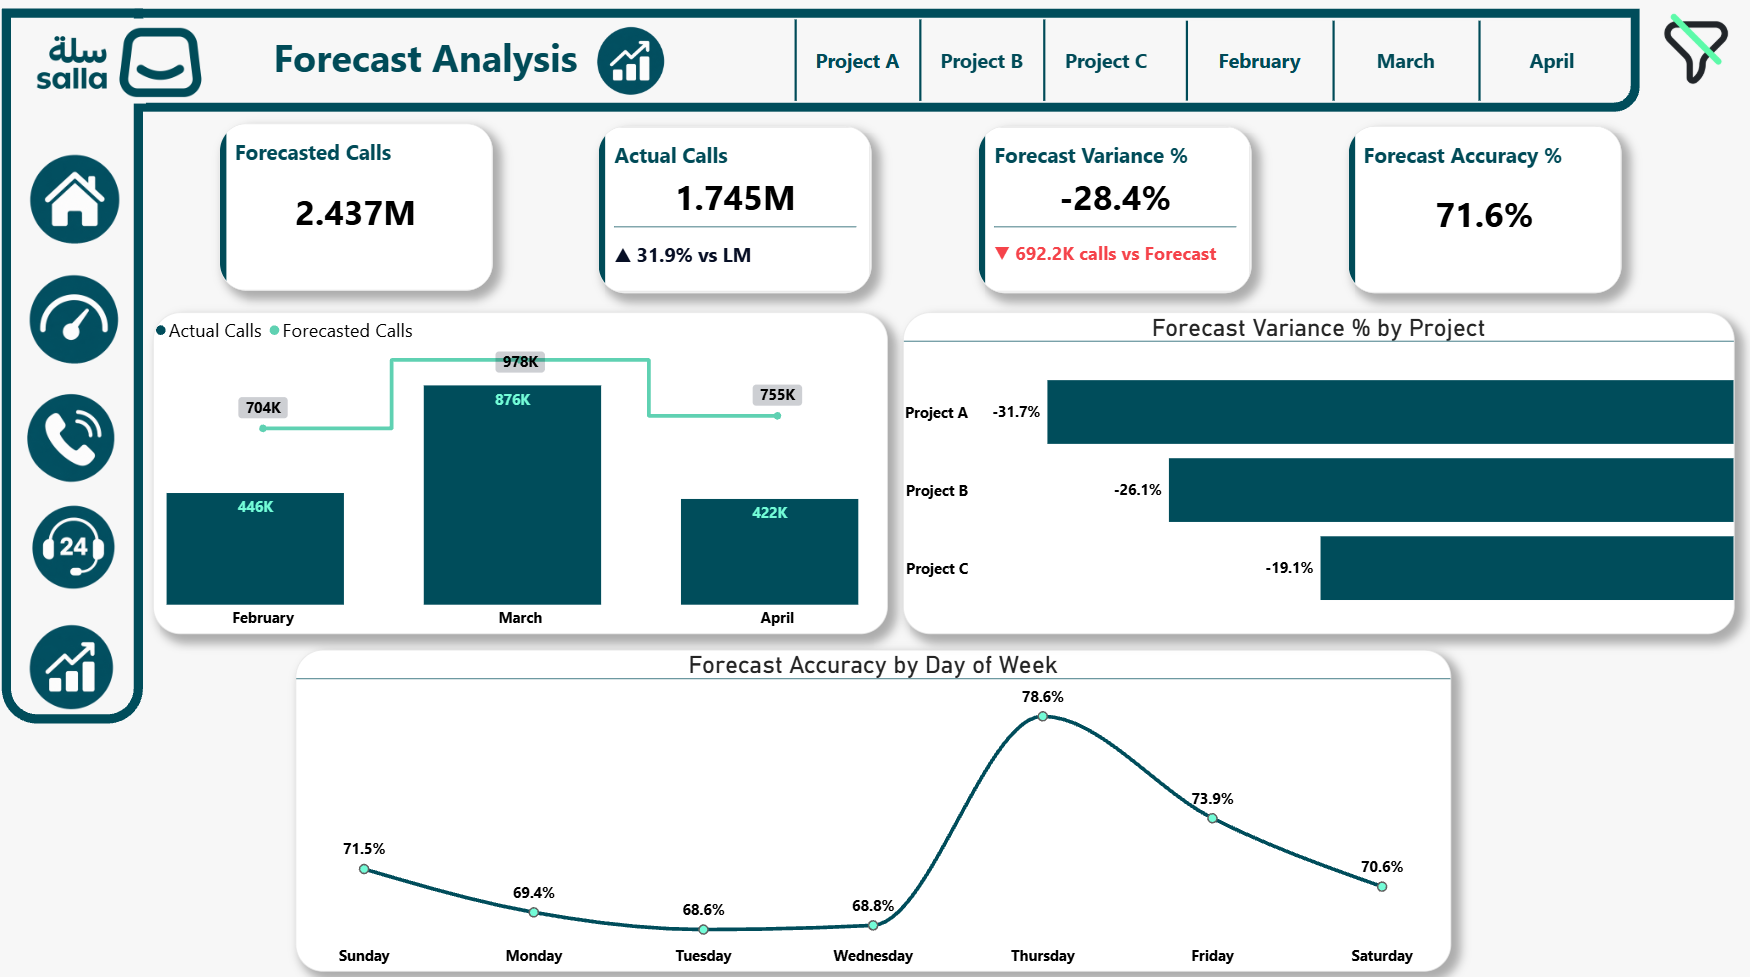

What the dashboard file says about the page in this screenshot:
{"tool":"powerbi","page":{"name":"Forecast Analysis","canvas":[1920,1080],"ordinal":4},"visuals":[{"type":"shape","box":[154.4,14,1642.4,112.7],"z":0},{"type":"shape","box":[10,14,154,780],"z":1000},{"type":"shape","box":[150.6,24,17.2,93.1],"z":2000},{"type":"slicer","fields":{"Values":["DimDate.Month Name"]},"box":[1280,25,516.7,91.7],"z":3000},{"type":"slicer","fields":{"Values":["Sallah Project.Project"]},"box":[853.3,23.3,445,93.3],"z":4000},{"type":"cardVisual","fields":{"Data":["_Measures.Total Forecasted Calls"]},"box":[246.9,138.5,298,182],"z":5000},{"type":"image","box":[10.8,10.8,254.3,122.8],"z":6000},{"type":"image","box":[1816.9,0,83.2,115.8],"z":7000},{"type":"cardVisual","fields":{"Data":["_Measures.Total Offered Calls"]},"box":[660.5,141.2,298,182],"z":8000},{"type":"cardVisual","fields":{"Data":["_Measures.Forecast Variance %"]},"box":[1074.9,141.2,298,182],"z":9000},{"type":"cardVisual","fields":{"Data":["_Measures.Forecast Accuracy %"]},"box":[1478.2,142.2,298,182],"z":10000},{"type":"lineClusteredColumnComboChart","fields":{"Category":["DimDate.Date.Variation.Date Hierarchy.Month"],"Y":["_Measures.Total Offered Calls"],"Y2":["_Measures.Total Forecasted Calls"]},"box":[174.5,344.8,801.6,351.2],"z":11000},{"type":"lineChart","title":"Forecast Accuracy by Day of Week","fields":{"Category":["DimDate.Day Name"],"Y":["_Measures.Forecast Accuracy %"]},"box":[329.7,713.3,1260.6,351.2],"z":12000},{"type":"clusteredBarChart","title":"Forecast Variance % by Project","fields":{"Category":["Sallah Project.Project"],"Y":["_Measures.Forecast Variance %"]},"box":[993.4,344.8,907.2,351.2],"z":13000},{"type":"image","box":[644.3,25.9,109.9,94.8],"z":19000},{"type":"image","box":[18,156,142,118],"z":19001},{"type":"image","box":[18,286,142,118],"z":19002},{"type":"image","box":[18,416,142,118],"z":19003},{"type":"image","box":[18,546,142,118],"z":19004},{"type":"image","box":[18,676,142,118],"z":19005}]}

Visuals, with their boxes in screenshot pixels (x1, y1, x2, y2), scaled from the page's 1920x1080 canvas onto the 1750x977 screenshot:
shape: {"left": 141, "top": 13, "right": 1638, "bottom": 115}
shape: {"left": 9, "top": 13, "right": 149, "bottom": 718}
shape: {"left": 137, "top": 22, "right": 153, "bottom": 106}
slicer - DimDate.Month Name: {"left": 1167, "top": 23, "right": 1638, "bottom": 106}
slicer - Sallah Project.Project: {"left": 778, "top": 21, "right": 1183, "bottom": 105}
cardVisual - _Measures.Total Forecasted Calls: {"left": 225, "top": 125, "right": 497, "bottom": 290}
image: {"left": 10, "top": 10, "right": 242, "bottom": 121}
image: {"left": 1656, "top": 0, "right": 1732, "bottom": 105}
cardVisual - _Measures.Total Offered Calls: {"left": 602, "top": 128, "right": 874, "bottom": 292}
cardVisual - _Measures.Forecast Variance %: {"left": 980, "top": 128, "right": 1251, "bottom": 292}
cardVisual - _Measures.Forecast Accuracy %: {"left": 1347, "top": 129, "right": 1619, "bottom": 293}
lineClusteredColumnComboChart - DimDate.Date.Variation.Date Hierarchy.Month x _Measures.Total Offered Calls: {"left": 159, "top": 312, "right": 890, "bottom": 630}
"Forecast Accuracy by Day of Week" lineChart: {"left": 301, "top": 645, "right": 1449, "bottom": 963}
"Forecast Variance % by Project" clusteredBarChart: {"left": 905, "top": 312, "right": 1732, "bottom": 630}
image: {"left": 587, "top": 23, "right": 687, "bottom": 109}
image: {"left": 16, "top": 141, "right": 146, "bottom": 248}
image: {"left": 16, "top": 259, "right": 146, "bottom": 365}
image: {"left": 16, "top": 376, "right": 146, "bottom": 483}
image: {"left": 16, "top": 494, "right": 146, "bottom": 601}
image: {"left": 16, "top": 612, "right": 146, "bottom": 718}
